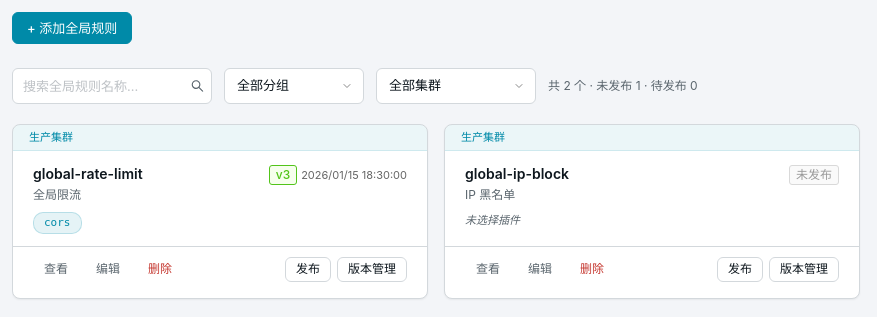
Test: GlobalRuleList.vue › does not conditionally display count on group filter — always uses totalCount from server
Select "线上" in the 1st dropdown at (294, 86), box [224, 68, 364, 104]
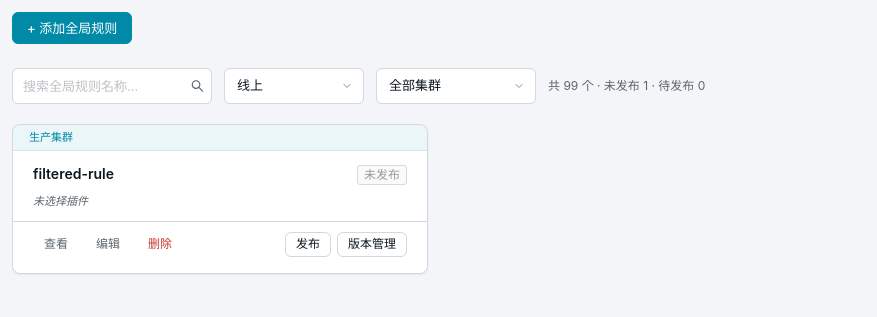
Expected: the text "99" is shown, [548, 78, 705, 93]
Expected: the number of elements with class "gr-card" is 1, [12, 124, 428, 274]
